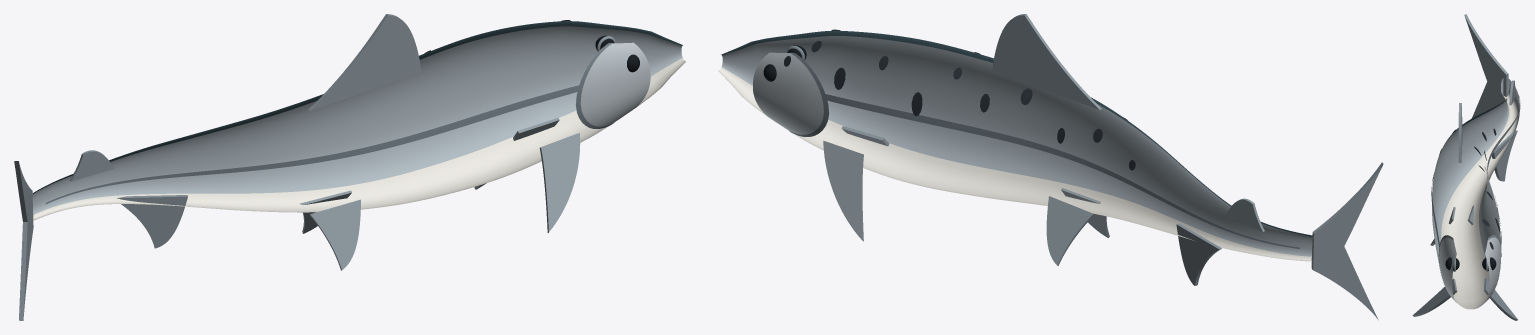
File: atlantic_salmon.glb
3 renders of one model, left to right at view 1: azimuth 30°, elevation 25°; view 2: azimuth 150°, elevation 25°; view 3: azimuth 270°, elevation 25°, orthographic. The views are drawn at different scales.
Parts seen in each view (by area): view 1: flank_left, belly, dorsal_fin, operculum_right, lateral_line_right, pectoral_fin_right, back, anal_fin, pelvic_fin_right, caudal_fin, adipose_fin, gill_edge_right (+1 smaller); view 2: flank_right, belly, dorsal_fin, operculum_left, caudal_fin, lateral_line_left, pectoral_fin_left, back, pelvic_fin_left, anal_fin, adipose_fin, pelvic_fin_right (+1 smaller); view 3: belly, flank_right, caudal_fin, flank_left, operculum_right, operculum_left, anal_fin, pectoral_fin_right, pectoral_fin_left, dorsal_fin, lateral_line_left, lateral_line_right (+4 smaller).
Part boxes in pixels (x1,y1,x2,y2): flank_left: [32, 26, 682, 214]; belly: [33, 58, 685, 220]; dorsal_fin: [308, 14, 421, 110]; operculum_right: [575, 42, 650, 126]; lateral_line_right: [45, 85, 579, 203]; pectoral_fin_right: [539, 133, 580, 232]; back: [32, 21, 682, 193]; anal_fin: [117, 195, 187, 248]; pelvic_fin_right: [309, 199, 360, 270]; caudal_fin: [14, 161, 33, 320]; adipose_fin: [69, 150, 113, 181]; gill_edge_right: [576, 43, 614, 128]; flank_right: [721, 36, 1312, 256]; belly: [718, 67, 1311, 261]; dorsal_fin: [992, 14, 1101, 109]; operculum_left: [753, 52, 829, 134]; caudal_fin: [1311, 162, 1383, 320]; lateral_line_left: [824, 94, 1299, 248]; pectoral_fin_left: [823, 140, 863, 241]; back: [721, 30, 1312, 236]; pelvic_fin_left: [1046, 196, 1094, 265]; anal_fin: [1176, 223, 1221, 285]; adipose_fin: [1226, 198, 1264, 231]; pelvic_fin_right: [1061, 188, 1109, 237]; belly: [1441, 94, 1517, 309]; flank_right: [1432, 99, 1508, 267]; caudal_fin: [1464, 14, 1508, 118]; flank_left: [1479, 79, 1519, 257]; operculum_right: [1439, 237, 1456, 302]; operculum_left: [1485, 237, 1501, 301]; anal_fin: [1492, 130, 1517, 181]; pectoral_fin_right: [1412, 278, 1457, 316]; pectoral_fin_left: [1484, 278, 1517, 320]; dorsal_fin: [1458, 103, 1462, 162]; lateral_line_left: [1487, 95, 1520, 246]; lateral_line_right: [1431, 89, 1506, 246].
Bounding box in the file's own units: 0.9806 × 0.3255 × 0.1852.
